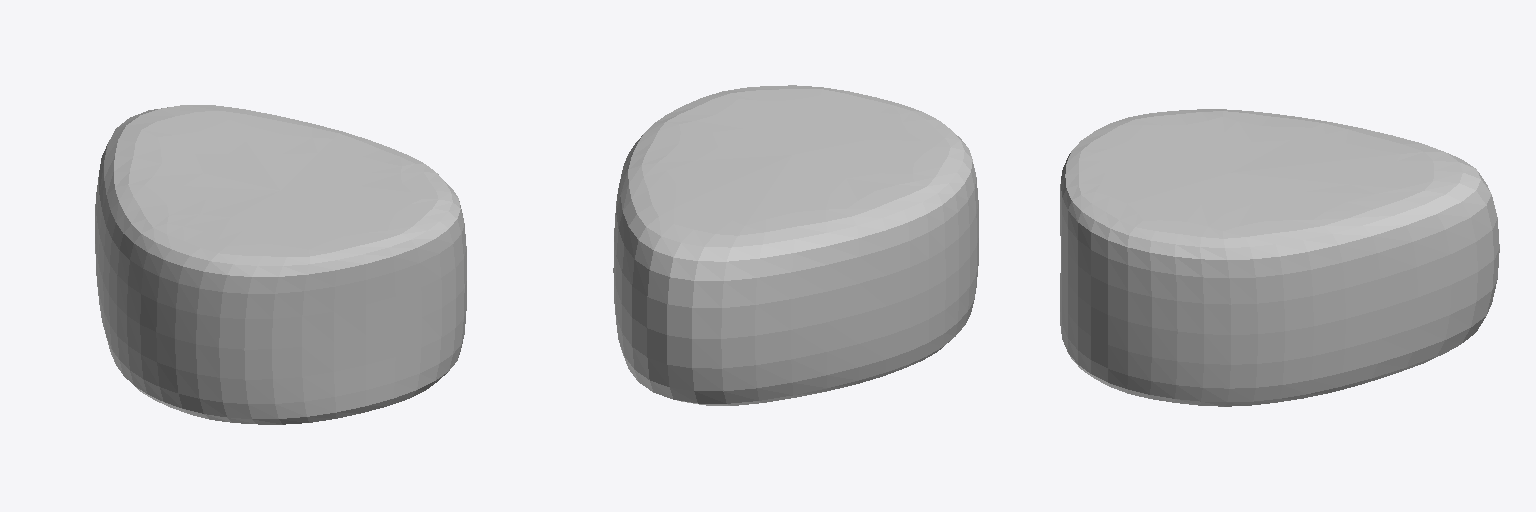
File: main-turrent.obj
The picture shows the model from 3 angles: view 1: azimuth 30°, elevation 25°; view 2: azimuth 150°, elevation 25°; view 3: azimuth 270°, elevation 25°; orthographic projection.
Visible parts, largest first — view 1: main-turrent; view 2: main-turrent; view 3: main-turrent.
Boxes of the visible parts, <box> form: main-turrent: <box>95,105,466,424</box>; main-turrent: <box>613,85,978,405</box>; main-turrent: <box>1060,109,1499,406</box>.
Size of the model in its own units: 1.56 by 0.8118 by 1.93.